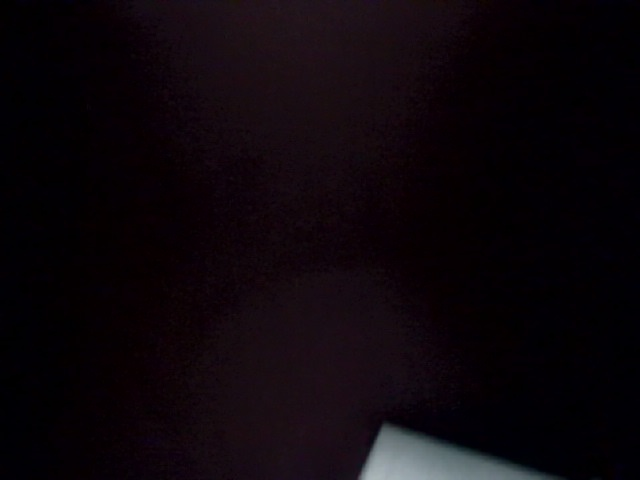KHSLJ: (177, 352, 603, 480)
